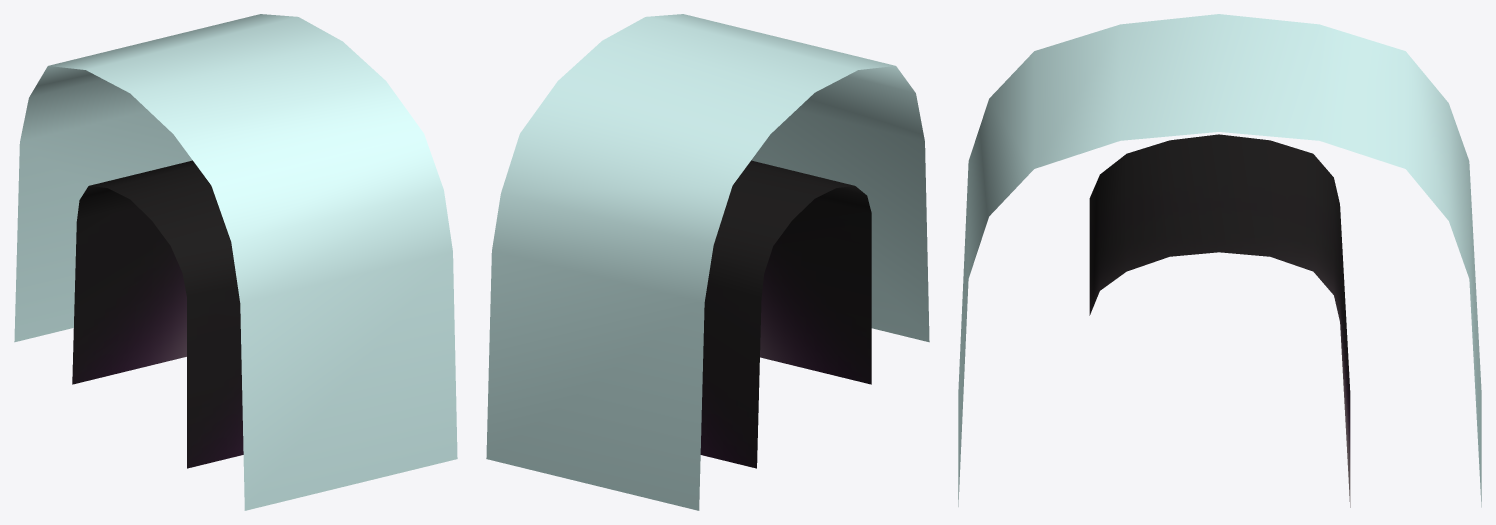
The model's file is arch1.obj.
The picture shows the model from 3 angles, left to right: view 1: azimuth 30°, elevation 25°; view 2: azimuth 150°, elevation 25°; view 3: azimuth 270°, elevation 25°; orthographic projection. The views are drawn at different scales.
Bounding box in the file's own units: 3 × 4.5 × 5.63.
